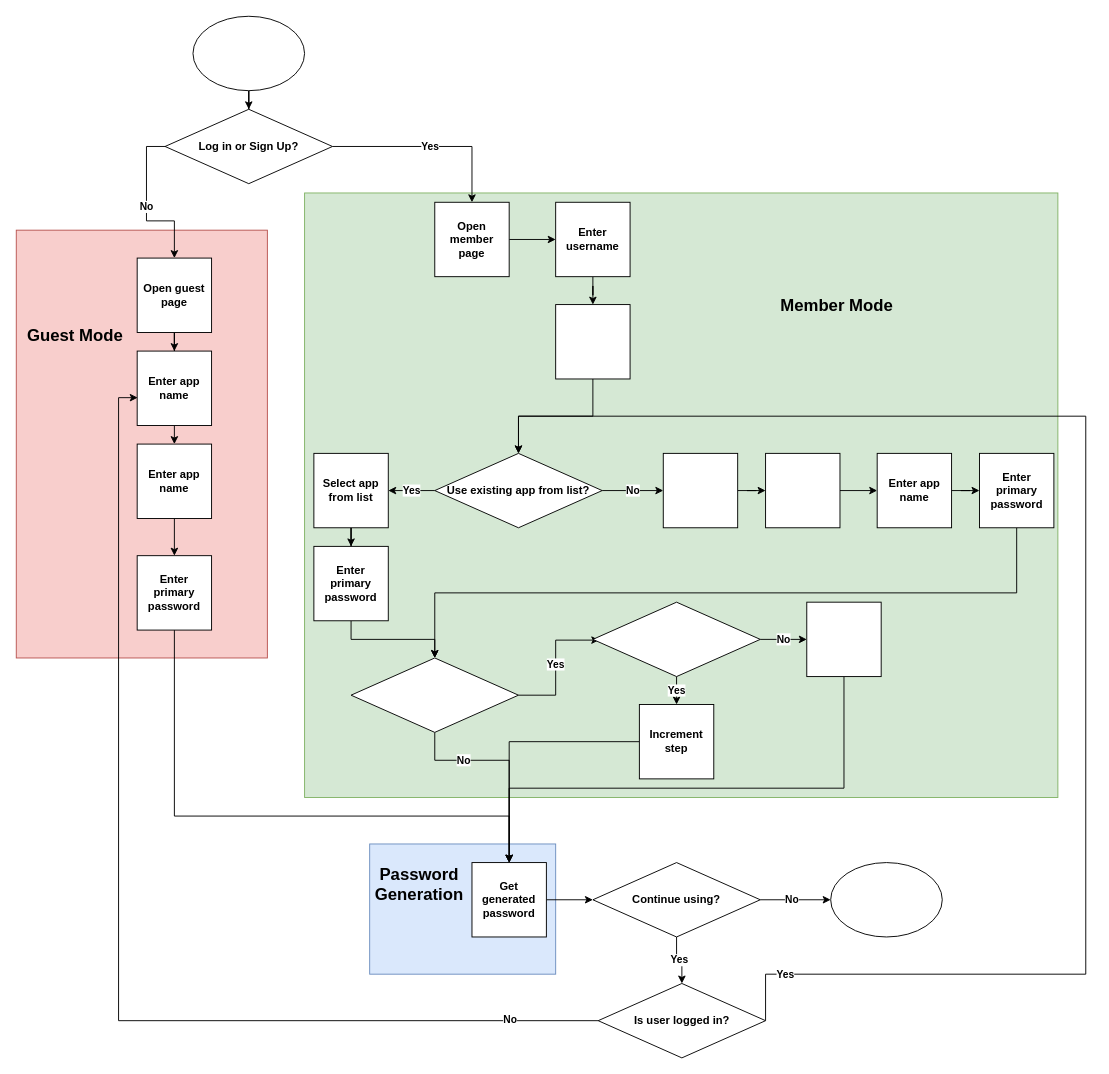
The diagram is 1109 pixels wide and 1074 high, and some of its shapes have lost their labels. Each missing label, with the centre of its shape:
Change Step?: pixel 434 694
Decrement step: pixel 843 639
Enter login password: pixel 592 341
Select add app: pixel 700 490
Select new app from list: pixel 802 490
Start: pixel 248 53
Step forward?: pixel 676 639
Stop: pixel 886 899
